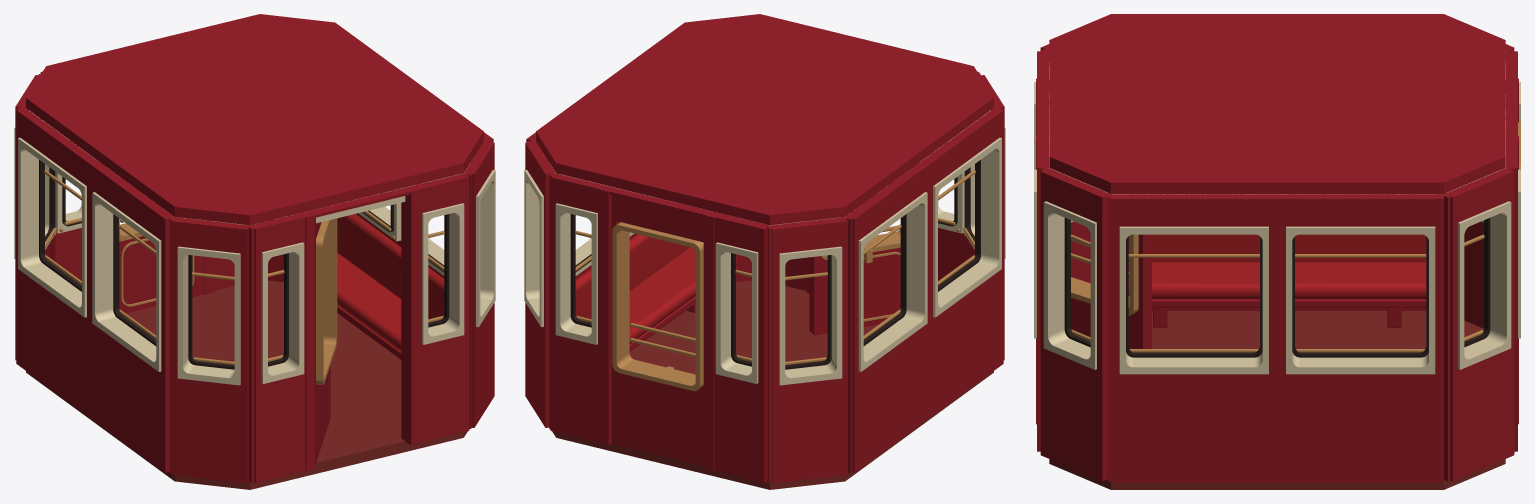
The model's file is ferris_remake_R01_material.glb.
3 renders of one model, left to right at view 1: azimuth 30°, elevation 25°; view 2: azimuth 150°, elevation 25°; view 3: azimuth 270°, elevation 25°, orthographic. The views are drawn at different scales.
Visible parts, largest first — view 1: ceiling_slab, floor_slab, wall_6_3_0.050, wall_6_1_0.050, wall_7_1_0.050, cream_bezel_6_1, cream_bezel_6_0, fixed_door_jamb_0_0.55, wall_0_1_0.050, bench_1_back, wall_0_5_0.050, cream_bezel_7_0 (+42 smaller); view 2: ceiling_slab, floor_slab, door_4_bottom, wall_6_1_0.050, wall_6_3_0.050, wall_5_1_0.050, door_window_bezel_4, cream_bezel_6_0, cream_bezel_6_1, wall_4_5_0.050, wall_4_1_0.050, door_0_bottom (+40 smaller); view 3: ceiling_slab, wall_2_1_0.050, wall_2_3_0.050, floor_slab, bench_-1_seat, bench_-1_back, cream_bezel_2_0, cream_bezel_2_1, wall_1_1_0.050, wall_3_1_0.050, cream_bezel_1_0, cream_bezel_3_0 (+29 smaller).
Part boxes in pixels (x1,y1,x2,y2): ceiling_slab: (26, 14, 483, 225); floor_slab: (26, 280, 467, 489); wall_6_3_0.050: (94, 325, 161, 469); wall_6_1_0.050: (20, 271, 86, 415); wall_7_1_0.050: (178, 378, 240, 482); cream_bezel_6_1: (92, 192, 161, 371); cream_bezel_6_0: (18, 137, 86, 317); fixed_door_jamb_0_0.55: (401, 187, 419, 445); wall_0_1_0.050: (261, 374, 302, 481); bench_1_back: (337, 214, 444, 319); wall_0_5_0.050: (422, 335, 462, 442); cream_bezel_7_0: (177, 246, 240, 385); ceiling_slab: (536, 14, 993, 225); floor_slab: (552, 280, 993, 489); door_4_bottom: (611, 364, 705, 466); wall_6_1_0.050: (858, 325, 925, 469); wall_6_3_0.050: (933, 271, 999, 415); wall_5_1_0.050: (779, 378, 841, 482); door_window_bezel_4: (612, 222, 703, 391); cream_bezel_6_0: (858, 192, 927, 371); cream_bezel_6_1: (933, 137, 1001, 317); wall_4_5_0.050: (717, 374, 758, 481); wall_4_1_0.050: (557, 335, 597, 442); door_0_bottom: (809, 247, 900, 335); ceiling_slab: (1049, 14, 1505, 193); wall_2_1_0.050: (1119, 374, 1268, 482); wall_2_3_0.050: (1286, 374, 1435, 482); floor_slab: (1049, 311, 1505, 489); bench_-1_seat: (1128, 262, 1426, 299); bench_-1_back: (1128, 234, 1426, 262); cream_bezel_2_0: (1119, 226, 1268, 374); cream_bezel_2_1: (1286, 226, 1435, 374); wall_1_1_0.050: (1046, 349, 1096, 478); wall_3_1_0.050: (1458, 349, 1508, 478); cream_bezel_1_0: (1043, 201, 1096, 369); cream_bezel_3_0: (1458, 201, 1511, 369).
Bounding box in the file's own units: 3.49 × 2.75 × 3.95.
